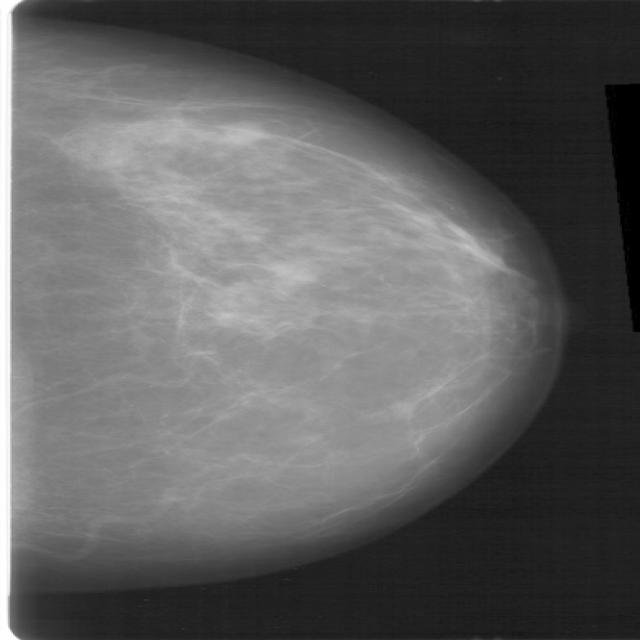tumour: (215, 118, 264, 144)
